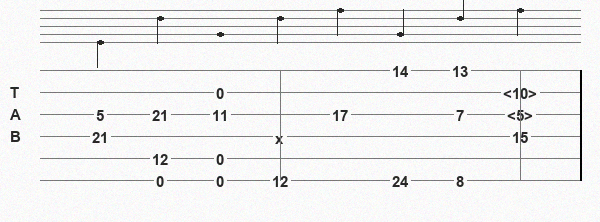0: (156, 173, 168, 188), (216, 151, 228, 166), (216, 173, 228, 188), (216, 85, 228, 100)
11: (212, 107, 232, 122)
12: (152, 151, 172, 166), (272, 173, 292, 188)
13: (452, 63, 472, 78)
14: (392, 63, 412, 78)
15: (512, 129, 532, 144)
17: (332, 107, 352, 122)
21: (92, 129, 112, 144), (152, 107, 172, 122)
24: (392, 173, 412, 188)
5: (96, 107, 108, 122)
7: (456, 107, 468, 122)
8: (456, 173, 468, 188)
harmonic: (503, 85, 541, 100), (507, 107, 537, 122)
x: (275, 130, 288, 142)
